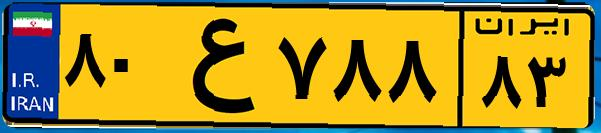0: (110, 28, 158, 98)
3: (525, 38, 570, 115)
7: (270, 28, 330, 110)
8: (385, 28, 445, 110), (330, 28, 385, 110), (57, 26, 110, 100), (475, 38, 525, 113)
ع: (158, 12, 270, 120)
